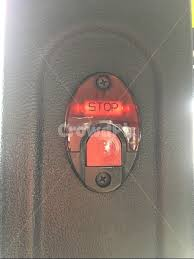bell: (65, 72, 141, 192)
